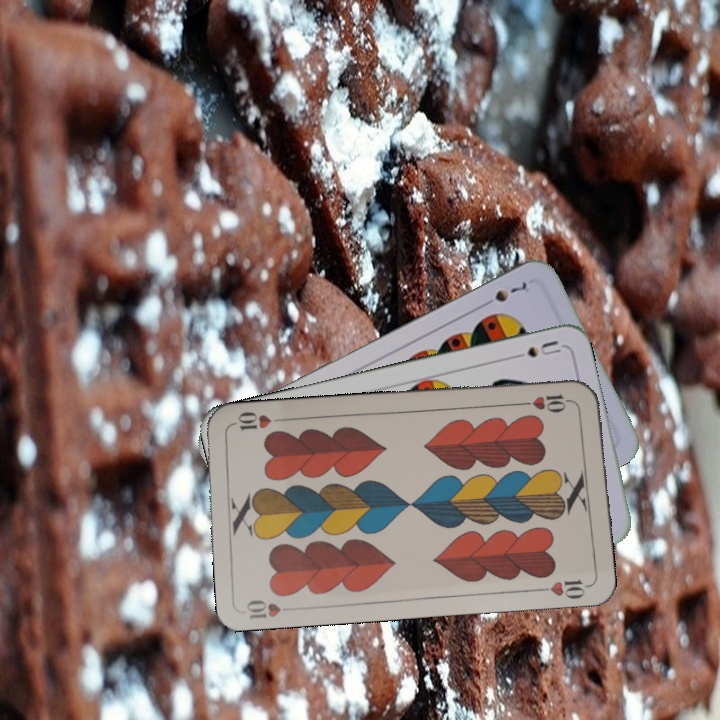H10: (517, 390, 577, 414), (242, 596, 283, 622)
S7: (477, 277, 530, 310)
SU: (506, 336, 564, 363)
